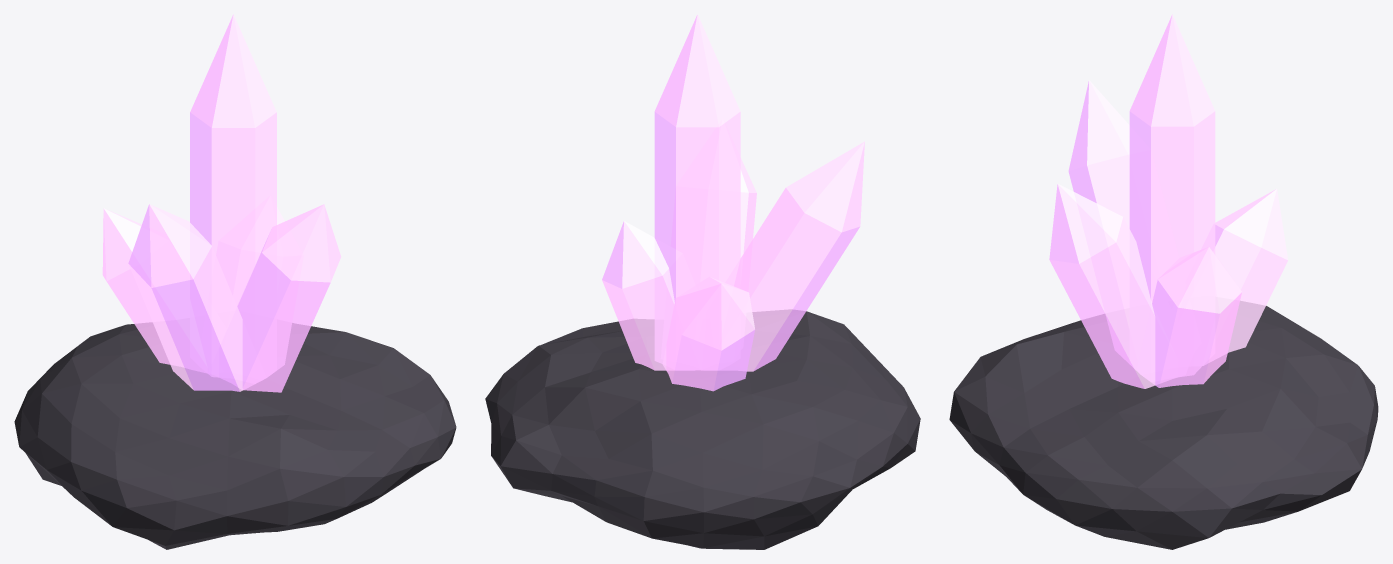
The model's file is crystals.glb.
3 renders of one model, left to right at view 1: azimuth 30°, elevation 25°; view 2: azimuth 150°, elevation 25°; view 3: azimuth 270°, elevation 25°, orthographic.
Visible parts, largest first — view 1: Rock Base, Crystal, Crystal.3, Crystal.2, Crystal.4; view 2: Rock Base, Crystal, Crystal.3, Crystal.4, Crystal.5, Crystal.2; view 3: Rock Base, Crystal, Crystal.2, Crystal.5, Crystal.4, Crystal.3.
Part boxes in pixels (x1=…): Rock Base: x1=14, y1=323, x2=456, y2=549; Crystal: x1=190, y1=14, x2=276, y2=306; Crystal.3: x1=128, y1=204, x2=243, y2=391; Crystal.2: x1=237, y1=204, x2=341, y2=392; Crystal.4: x1=102, y1=208, x2=170, y2=364; Rock Base: x1=485, y1=310, x2=920, y2=549; Crystal: x1=654, y1=14, x2=740, y2=301; Crystal.3: x1=734, y1=141, x2=864, y2=371; Crystal.4: x1=666, y1=276, x2=754, y2=391; Crystal.5: x1=602, y1=221, x2=674, y2=370; Crystal.2: x1=740, y1=157, x2=756, y2=257; Rock Base: x1=949, y1=301, x2=1378, y2=549; Crystal: x1=1129, y1=14, x2=1215, y2=302; Crystal.2: x1=1049, y1=184, x2=1155, y2=388; Crystal.5: x1=1152, y1=247, x2=1241, y2=387; Crystal.4: x1=1215, y1=189, x2=1288, y2=352; Crystal.3: x1=1068, y1=80, x2=1129, y2=228.
Size of the model in its own units: 0.9045 by 1.14 by 0.9006.
